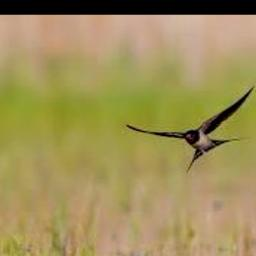Swallow: (124, 86, 253, 169)
